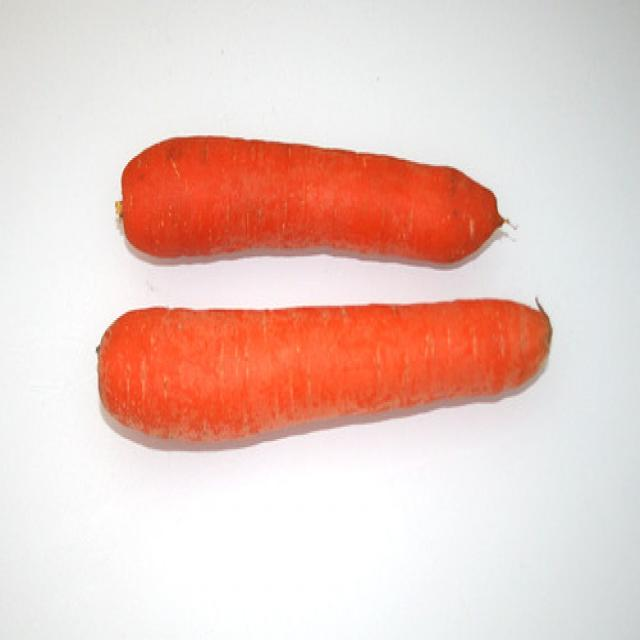Carrot: (88, 301, 565, 444), (118, 136, 518, 269)
